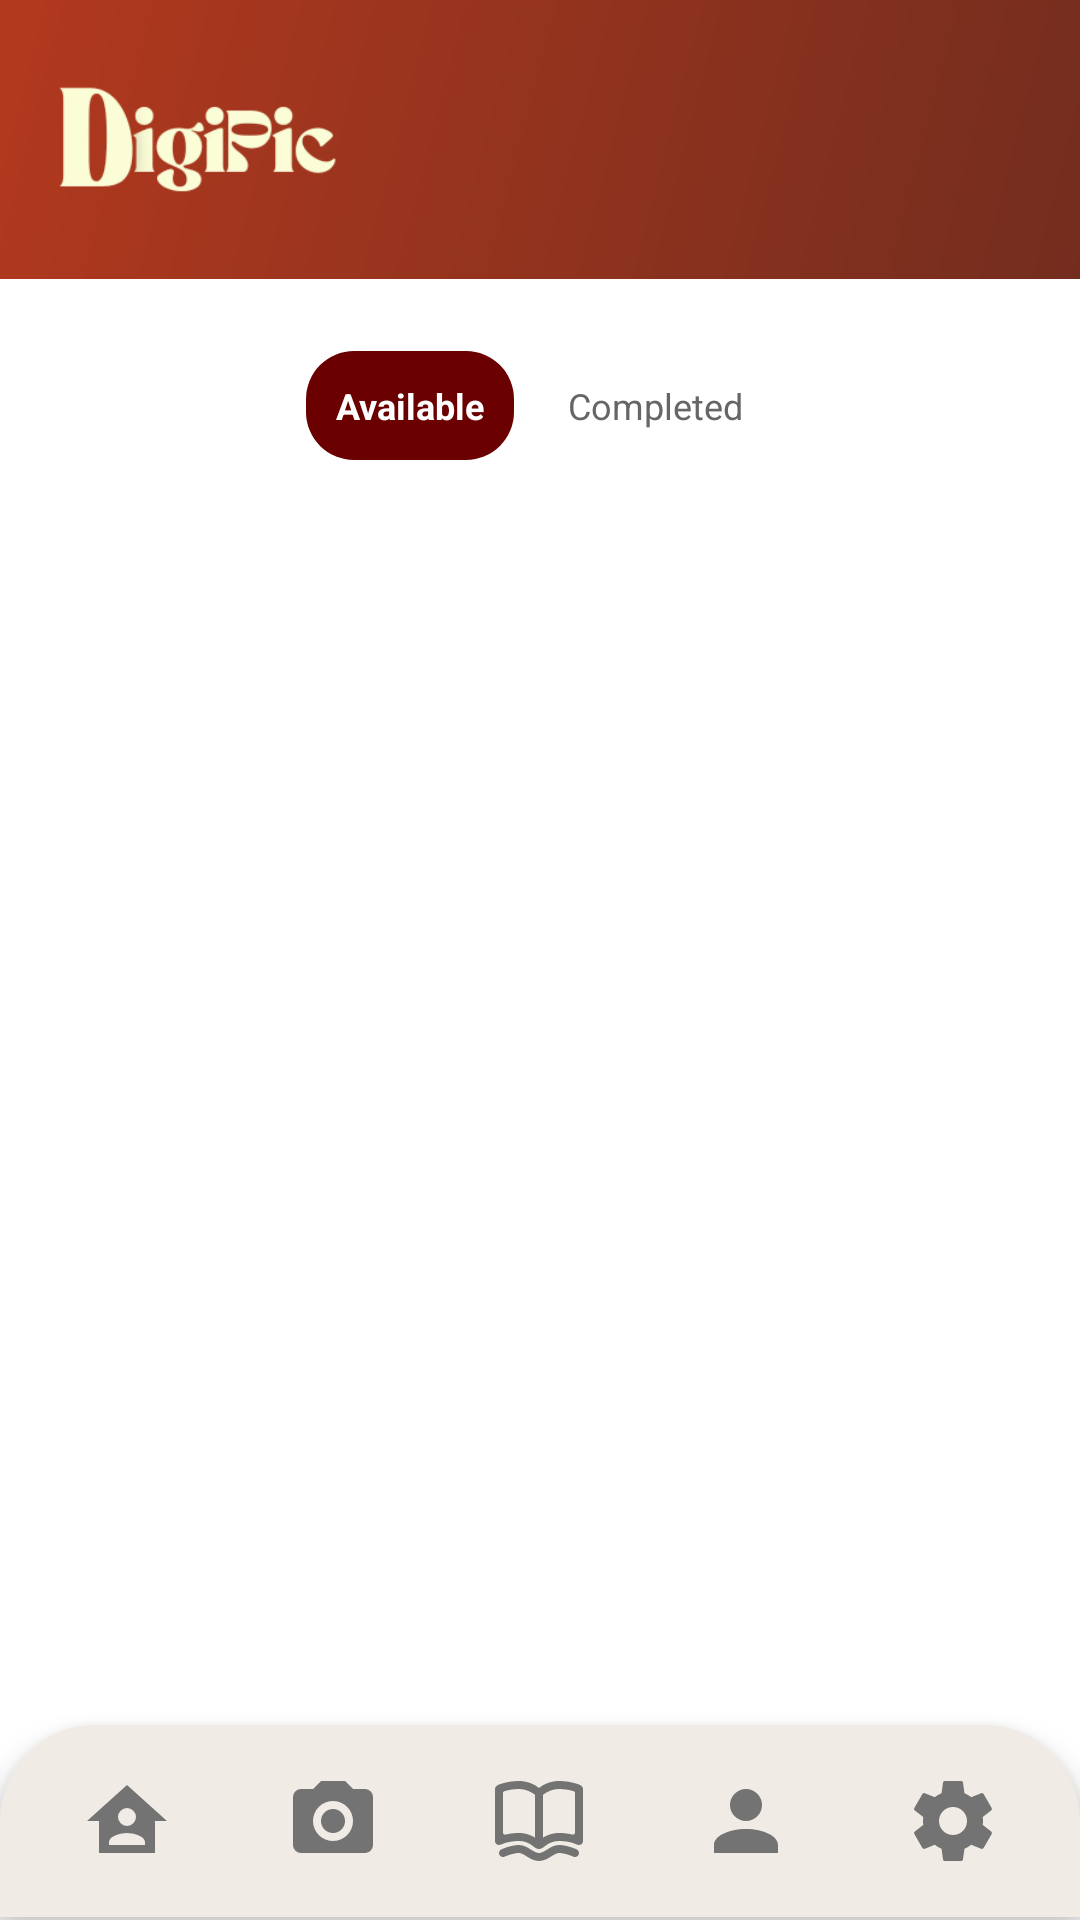

Icon bounding boxes for this 1080×1920 phone screenshot, format BBox(x1, y1, x2, y2):
Home: BBox(87, 1785, 167, 1853)
Profile: BBox(714, 1789, 778, 1853)
Settings: BBox(914, 1781, 992, 1861)
